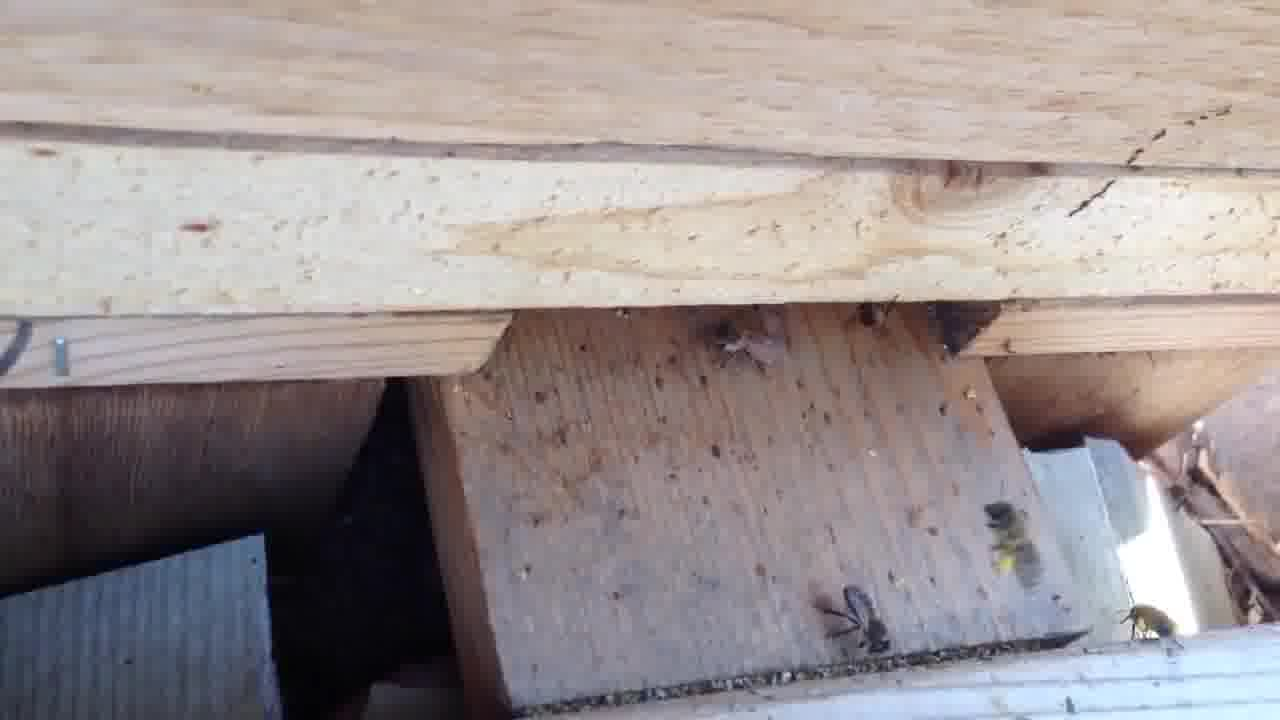pollen: (975, 496, 1050, 591), (1119, 600, 1181, 643)
